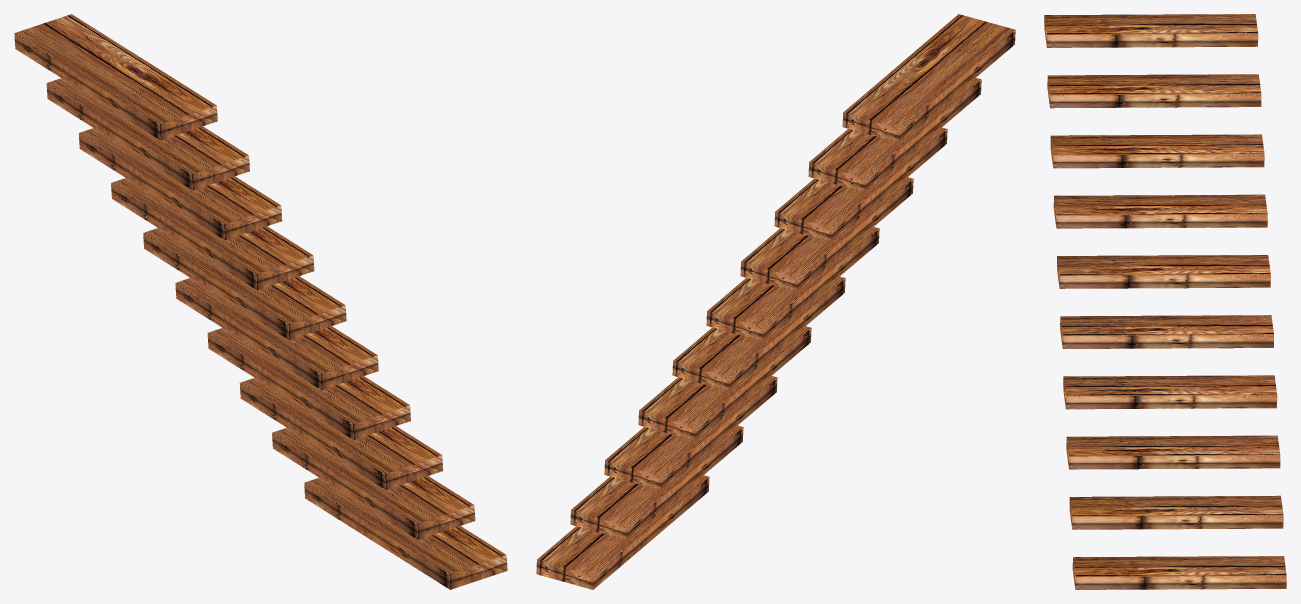
The model's file is cube.018_lev2.glb.
3 views of the same model, side by side, from view 1: azimuth 30°, elevation 25°; view 2: azimuth 150°, elevation 25°; view 3: azimuth 270°, elevation 25° (orthographic). The views are drawn at different scales.
Visible parts, largest first — view 1: cube.018_lev2; view 2: cube.018_lev2; view 3: cube.018_lev2.
Boxes of the visible parts, x1,y1,x2,y2 form: cube.018_lev2: [14, 14, 507, 589]; cube.018_lev2: [536, 14, 1015, 589]; cube.018_lev2: [1044, 14, 1286, 589].
Bounding box in the file's own units: 0.54 × 0.7646 × 0.38.
Materials: 1 (1 with a texture image).
